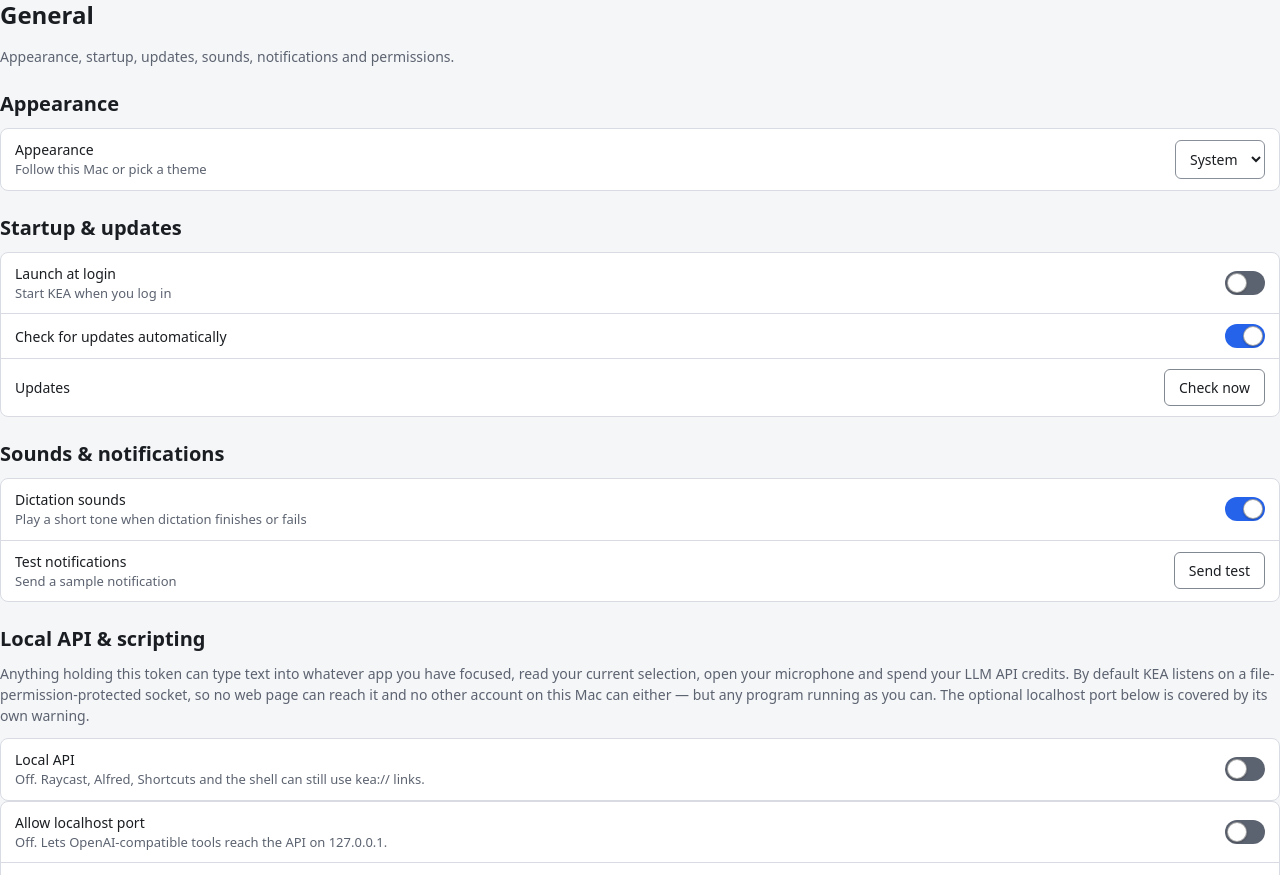
Test: GeneralPage › saves the appearance preference from the row
Select "Dark" in the dropdown named "Appearance" at (1220, 159), box [1175,140,1265,179]
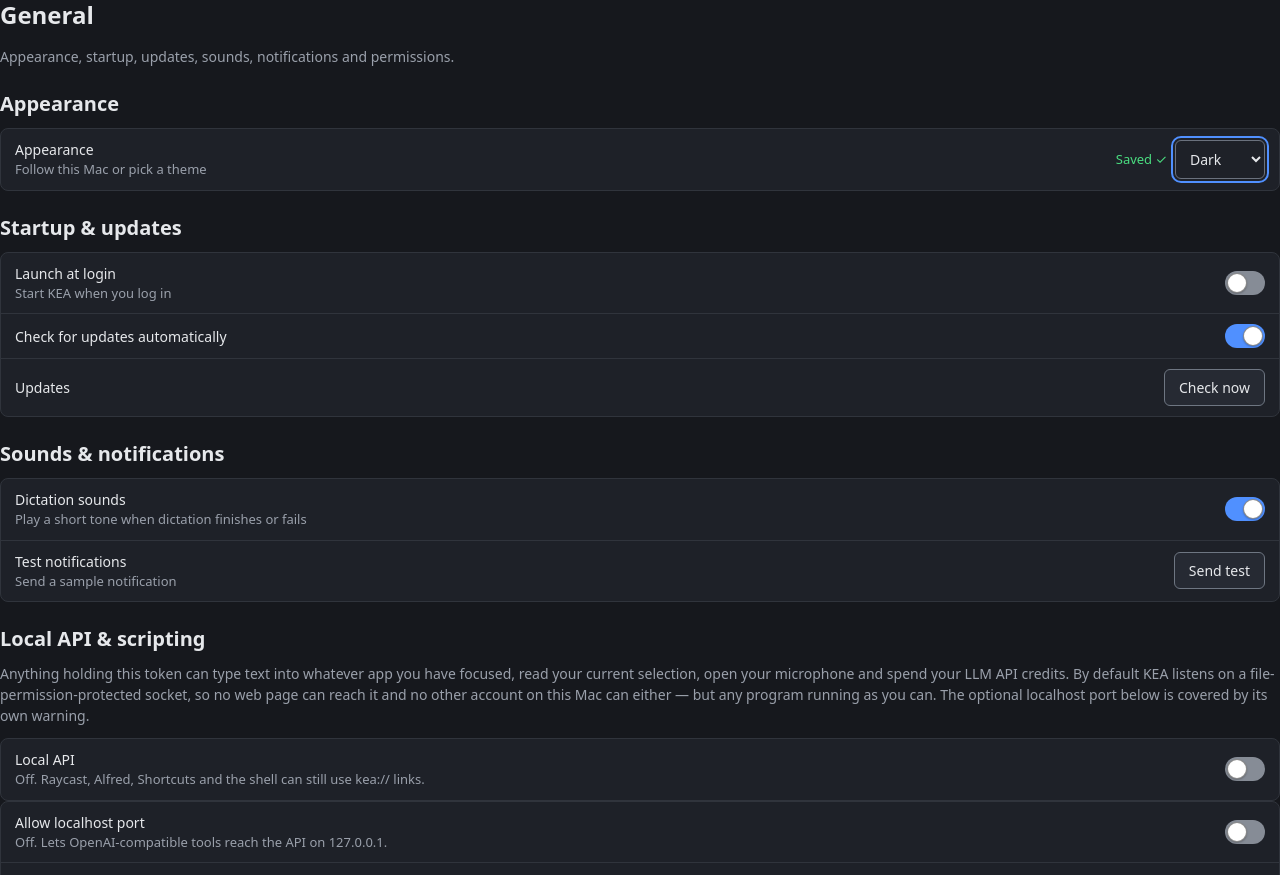
Expected: the text "Saved ✓" is shown, [1116,150,1167,169]
